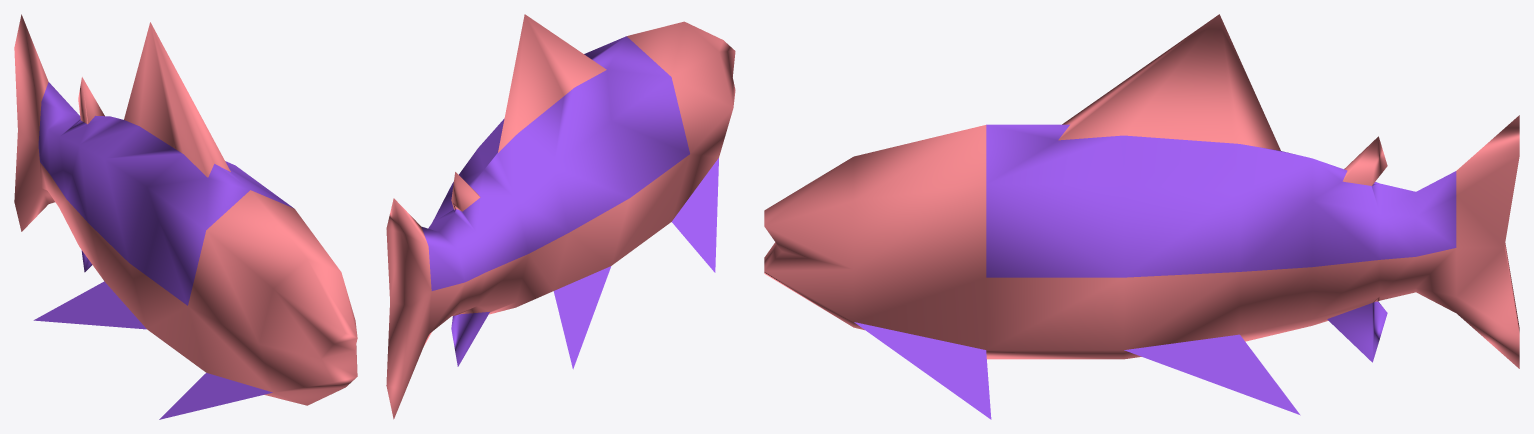
The model's file is normalfish.glb.
3 renders of one model, left to right at view 1: azimuth 30°, elevation 25°; view 2: azimuth 150°, elevation 25°; view 3: azimuth 270°, elevation 25°, orthographic. The views are drawn at different scales.
Visible parts, largest first — view 1: Mesh; view 2: Mesh; view 3: Mesh.
Part boxes in pixels (x1,y1,x2,y2): Mesh: [14, 14, 357, 419]; Mesh: [386, 14, 735, 419]; Mesh: [764, 14, 1519, 419].
Bounding box in the file's own units: 0.1978 × 0.3222 × 0.6208.
